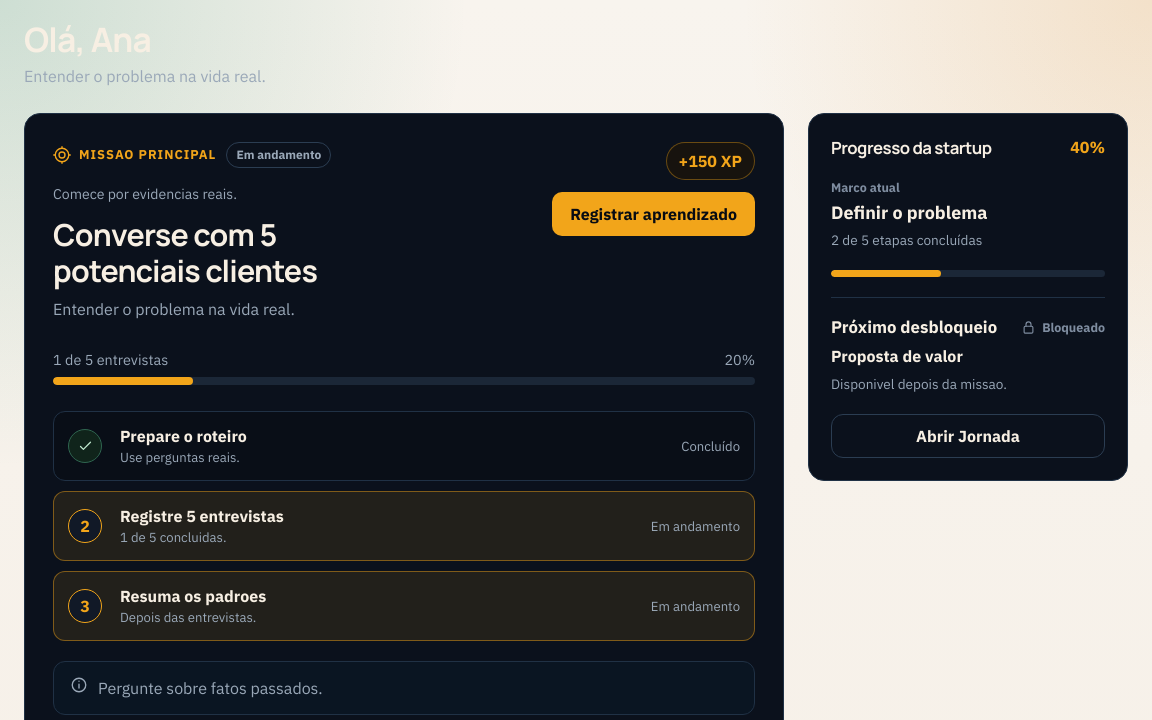
Scenario: StartupHomeScreen › opens learning from the backend learning step key
This screenshot has width=1152, height=720.
Click the text "Resuma os padroes" at (193, 596), box [120, 586, 266, 606]
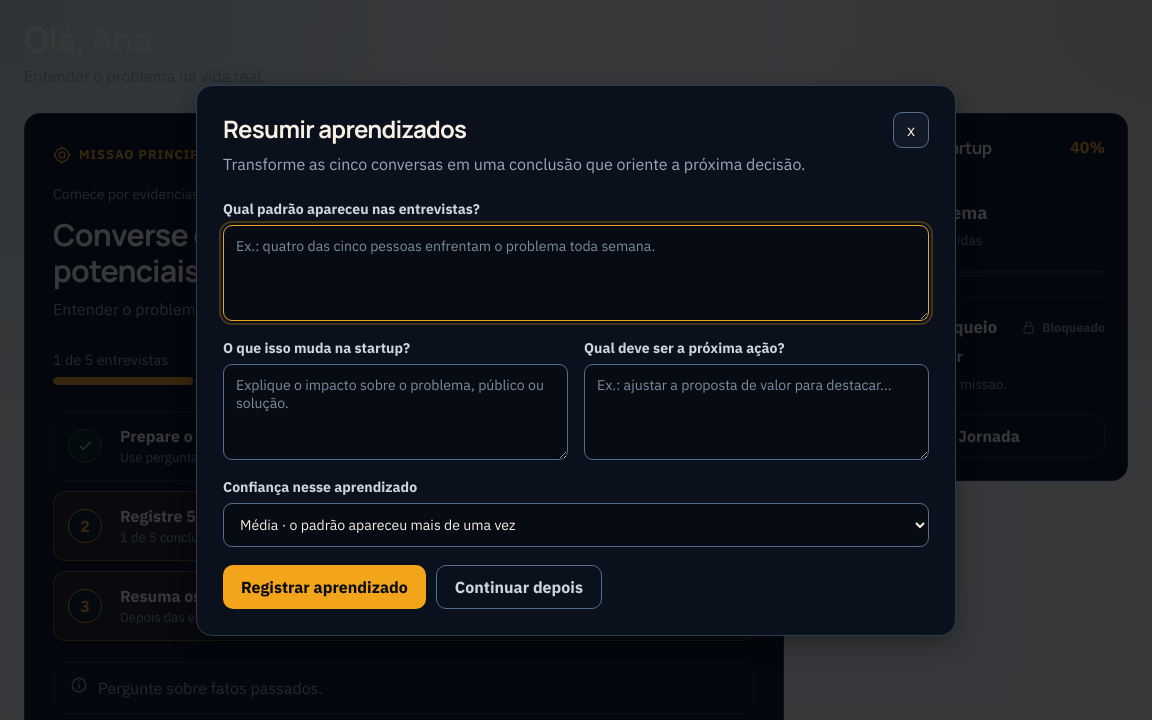
Check: the dialog "Resumir aprendizados" is shown, box [196, 84, 956, 636]
